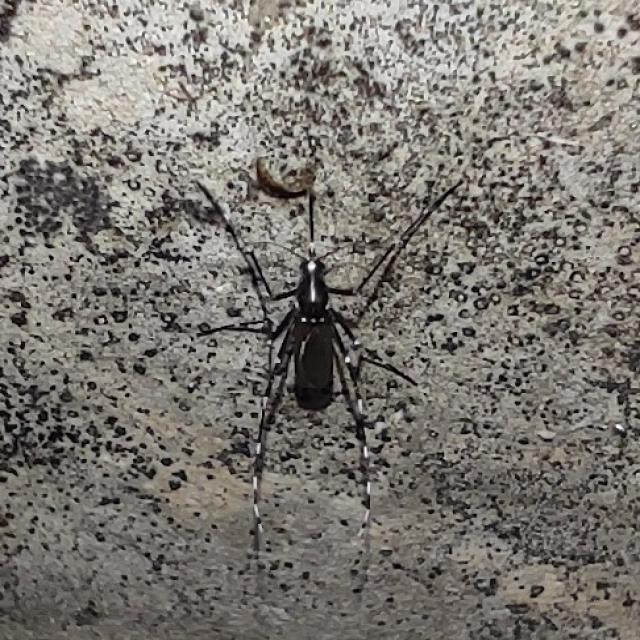albopictus: (175, 146, 461, 578)
